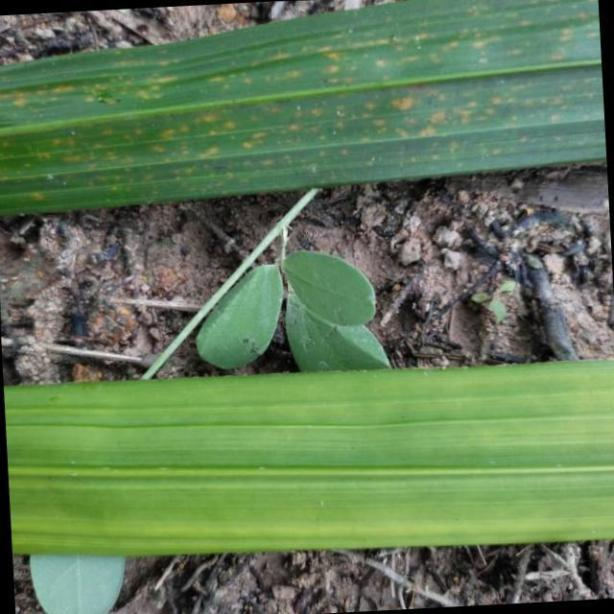nitrogen: (0, 377, 614, 555)
